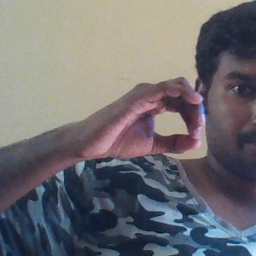O: (80, 75, 215, 162)
